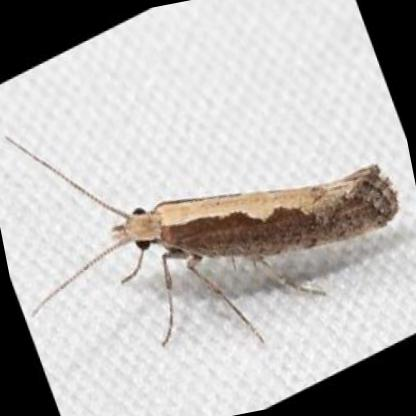plutella: (0, 131, 402, 359)
